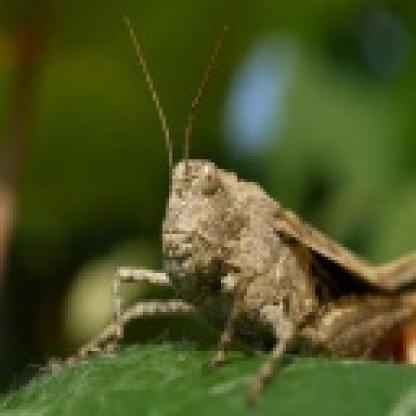grasshopper: (103, 52, 416, 376)
